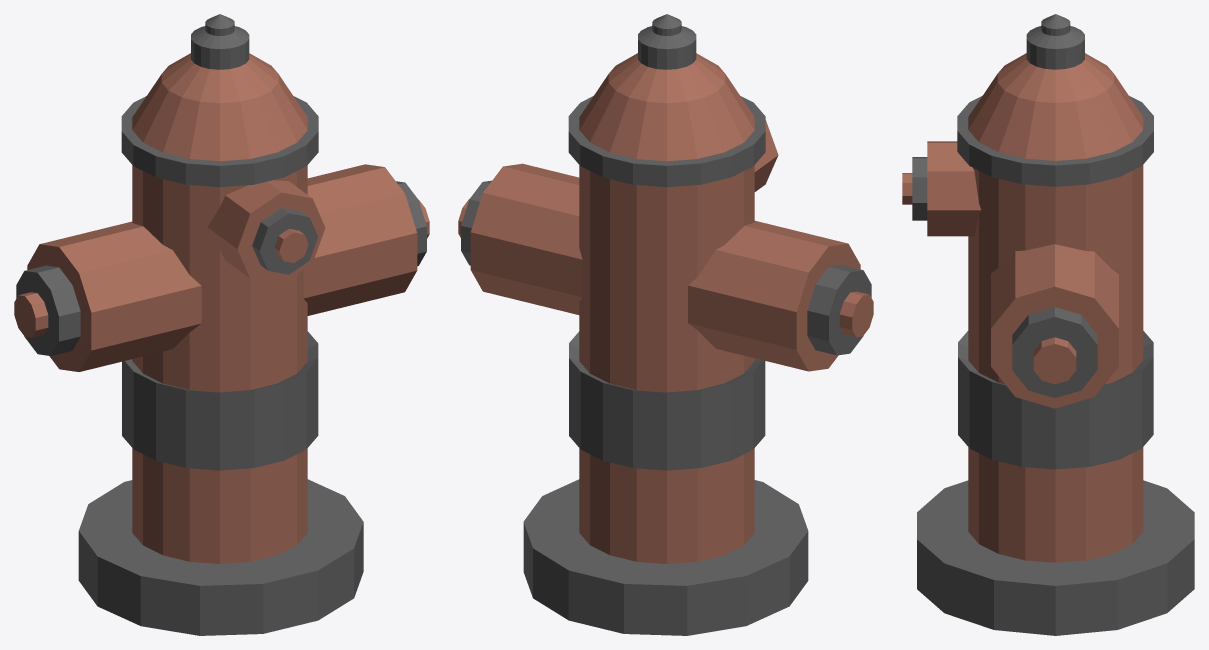
Rendered from SM_Hydrant.fbx.
3 renders of one model, left to right at view 1: azimuth 30°, elevation 25°; view 2: azimuth 150°, elevation 25°; view 3: azimuth 270°, elevation 25°, orthographic.
Visible parts, largest first — view 1: pCylinder5; view 2: pCylinder5; view 3: pCylinder5.
Part boxes in pixels (<box>): pCylinder5: <box>14,14,429,635</box>; pCylinder5: <box>458,14,873,635</box>; pCylinder5: <box>902,14,1194,635</box>.
Bounding box in the file's own units: 2.25 × 3.07 × 1.45.
